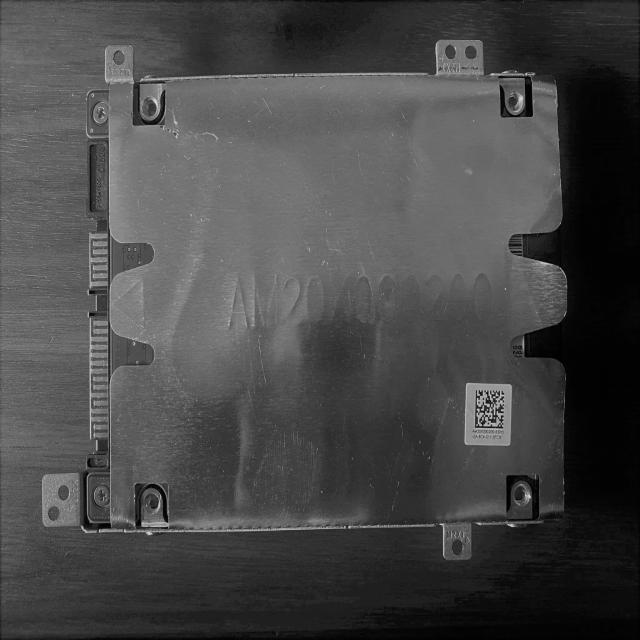PhillipsScrewHead: (92, 100, 110, 126), (94, 484, 110, 509)
